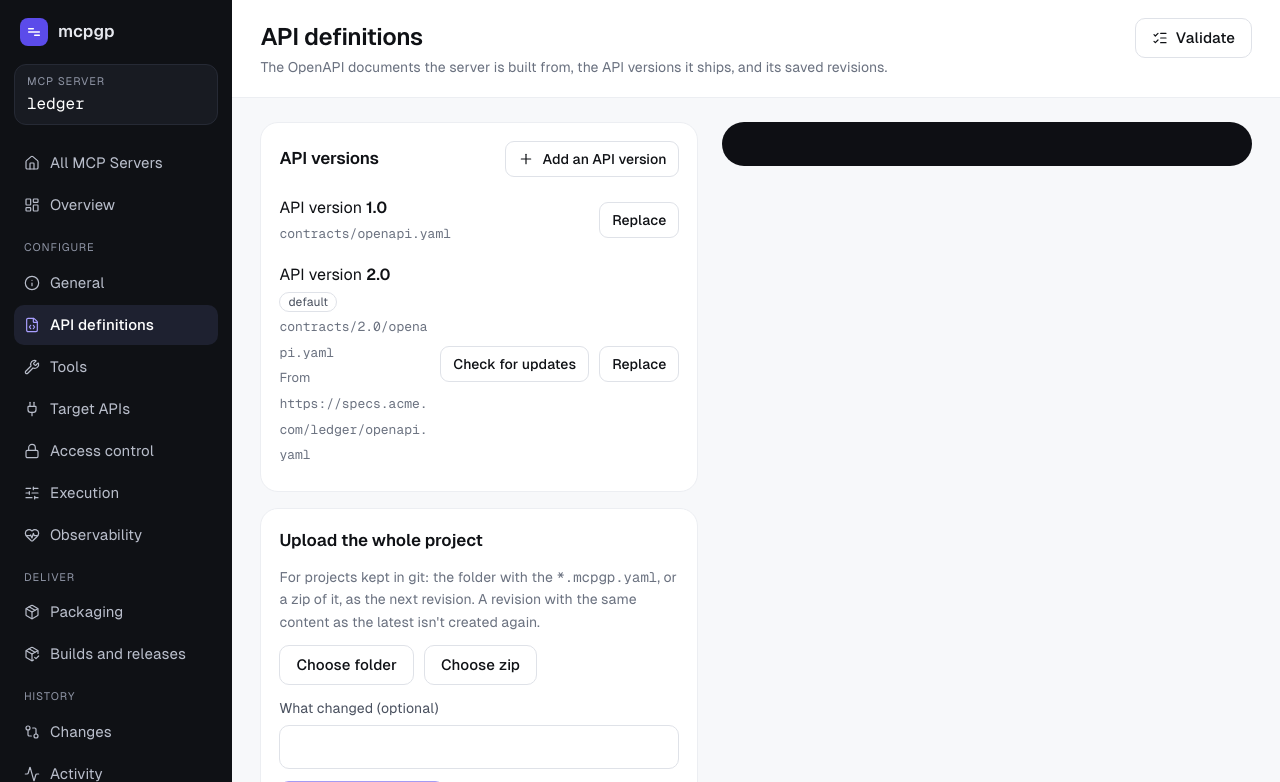
Test: specs from an address › adds a version from an address the person types
The width and height of the screenshot is (1280, 782).
Click the button "Add an API version" at (592, 159), box [506,141,680,177]
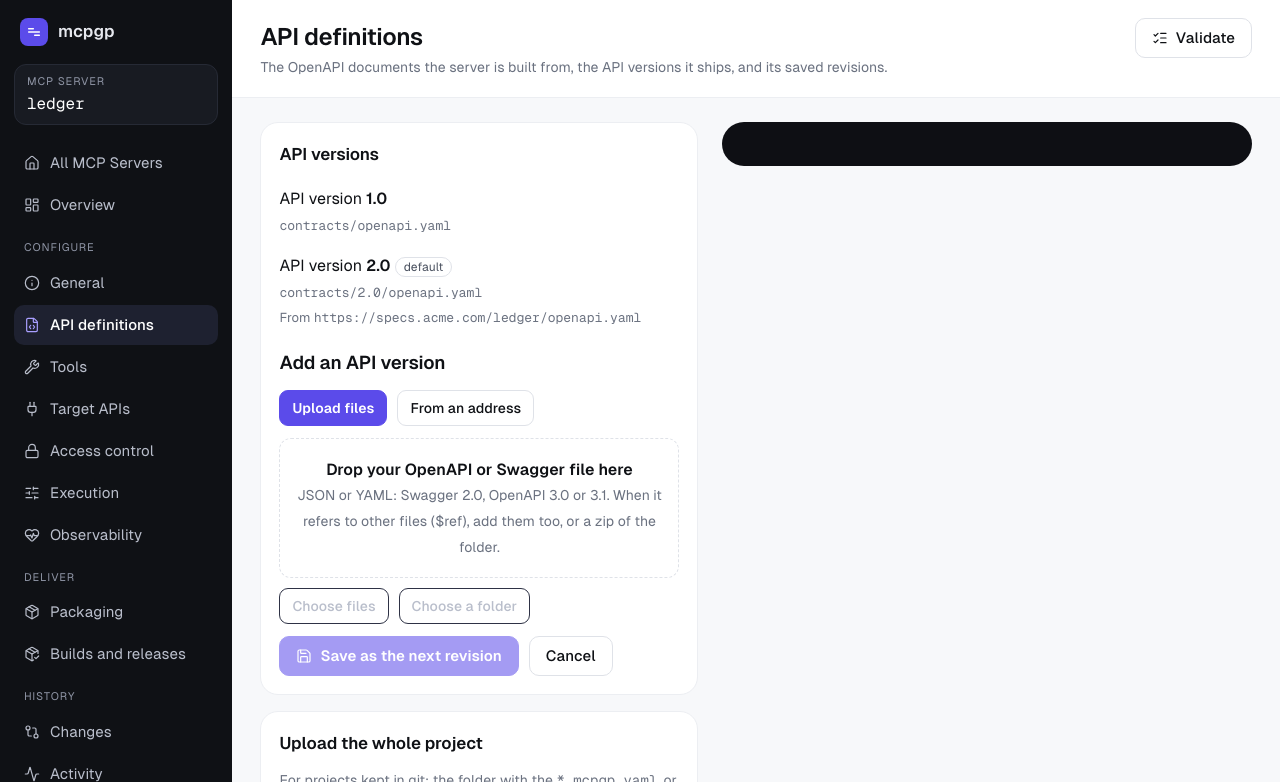
Click the radio button labelled "From an address" at (466, 408), box [398,390,534,426]
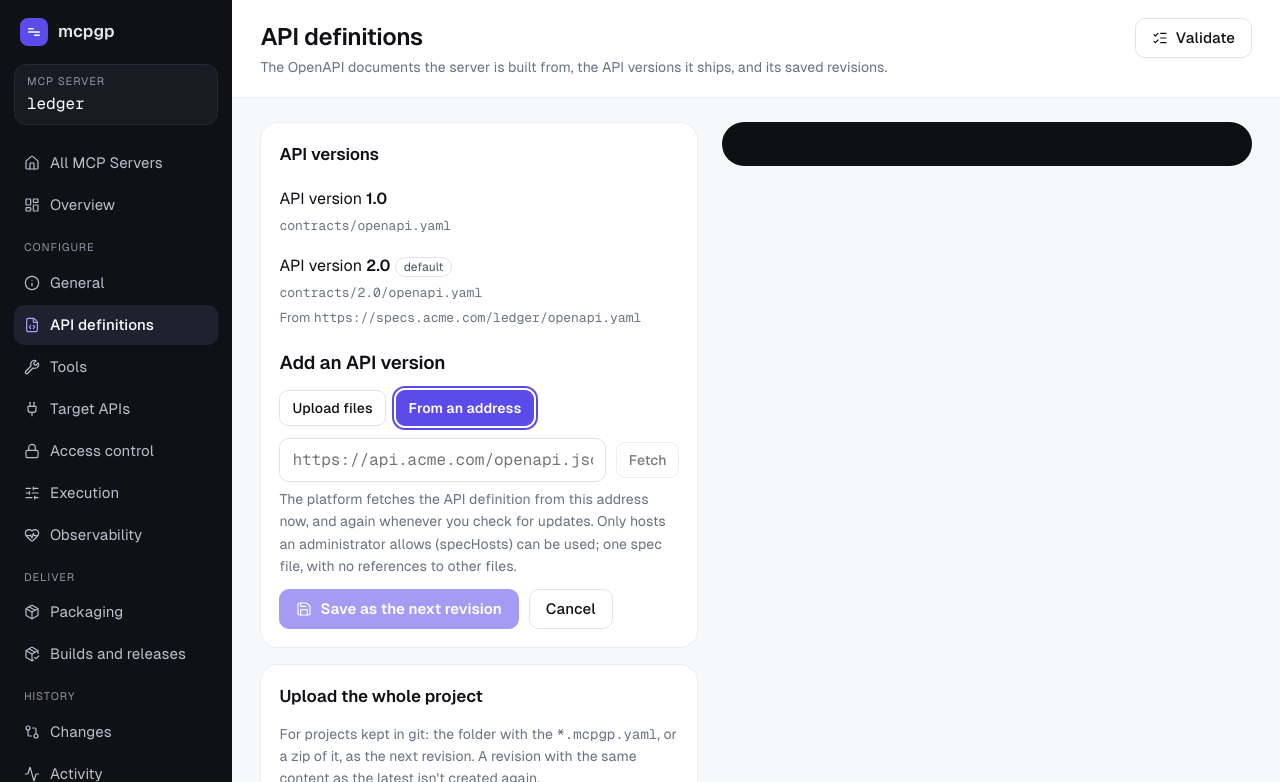
Type "https://specs.acme.com/ledger/v3.json" into the field named "Address of the API definition" at (442, 460), box [279,438,606,482]
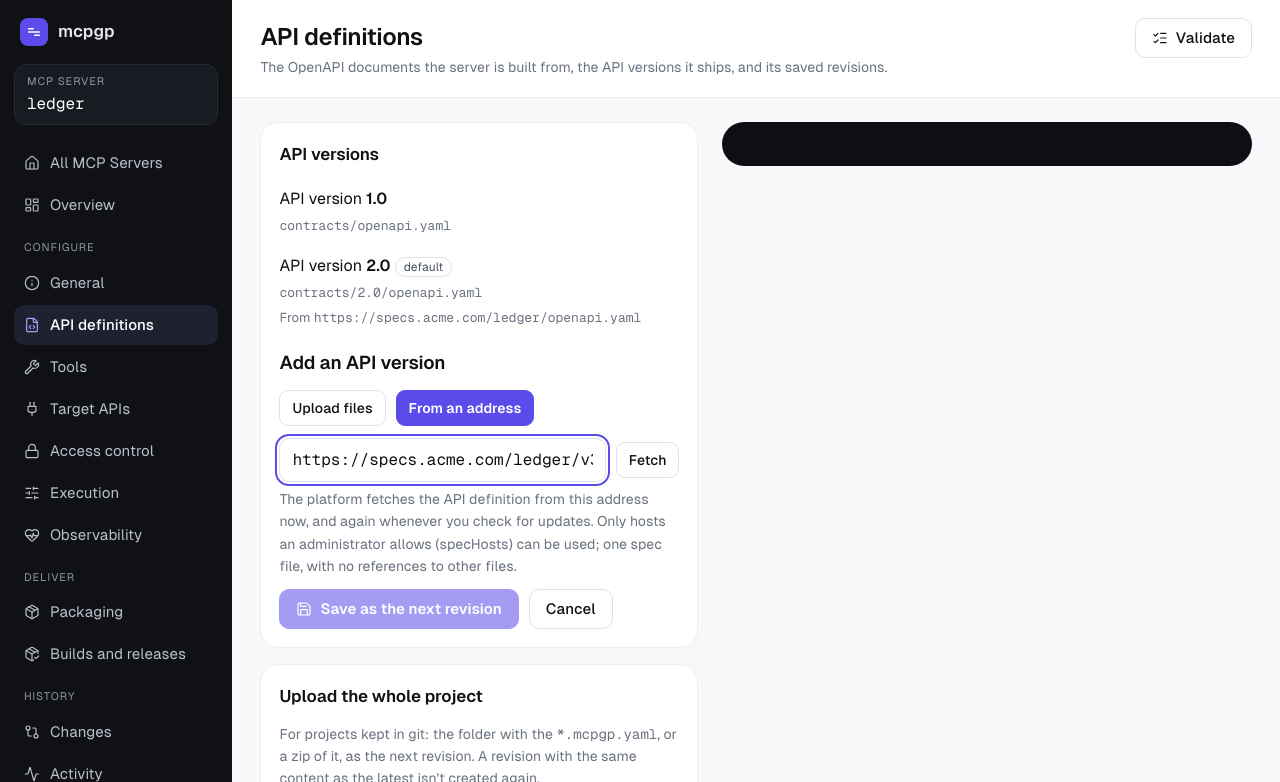
Click the button "Fetch" at (648, 460), box [616,442,680,478]
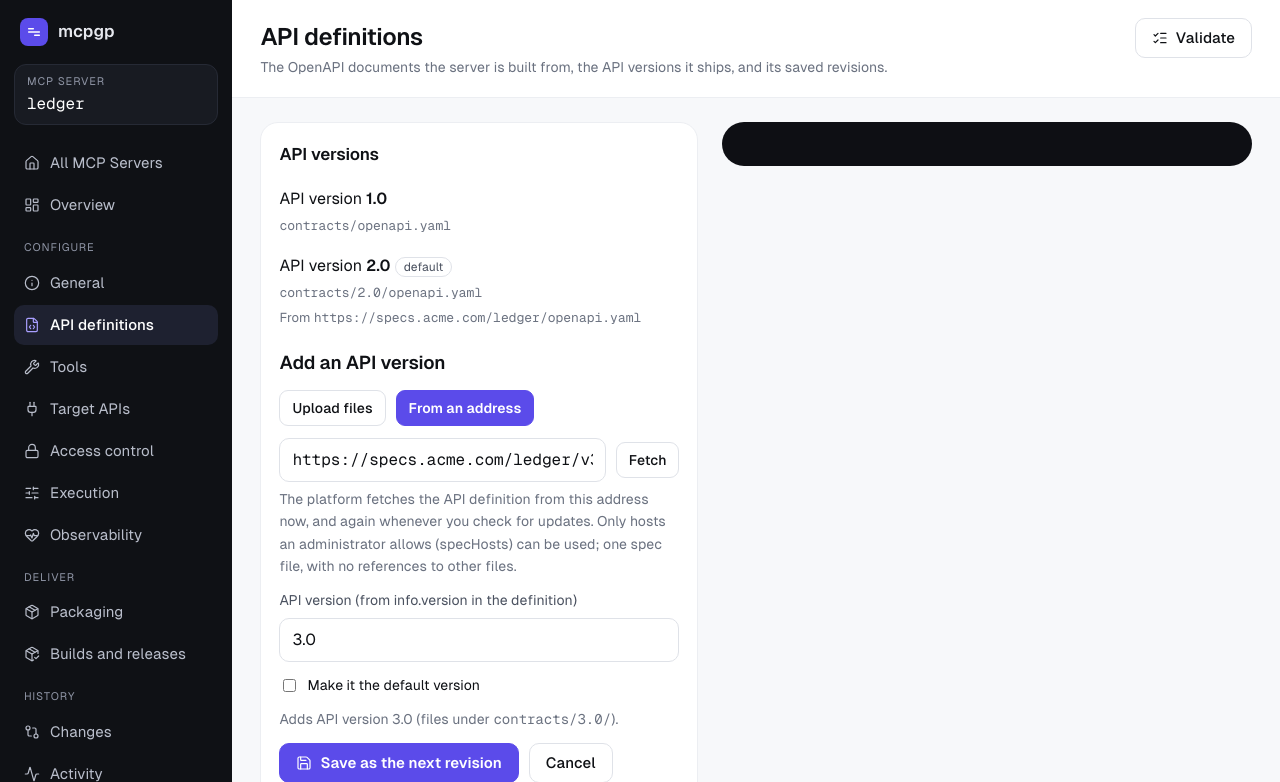
Result: the text "Adds API version 3.0 (files under contracts/3.0/)." is shown at [279,710,618,728]
